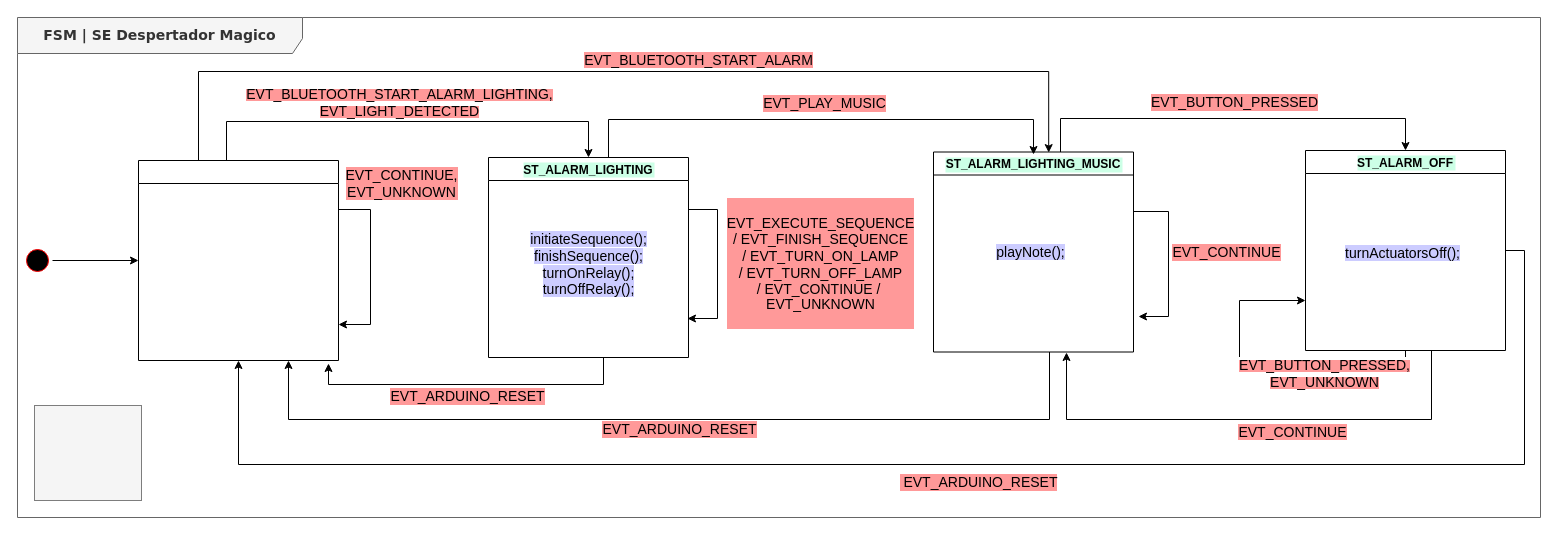
This 1558x535 diagram has some shape labels left out. The shapes that lost their labels are listed below. From the top down, each one's box as (x1, y1, x2, y2) in pixels, then its label:
(138, 160, 338, 360): ST_ALARM_IDLE
(34, 404, 142, 500): Referencias : Estados Eventos Acciones
